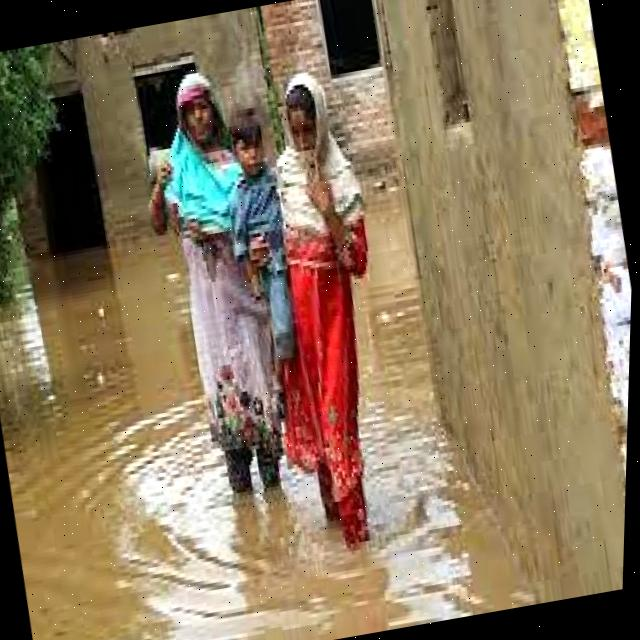civilian: (229, 56, 427, 560), (110, 58, 315, 514), (206, 102, 315, 368)
